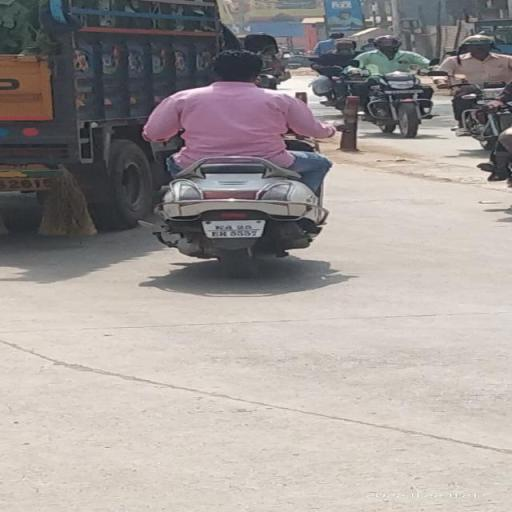bike: (138, 47, 342, 269)
numberplate: (205, 220, 265, 238)
withouthelmet: (211, 50, 267, 81)
